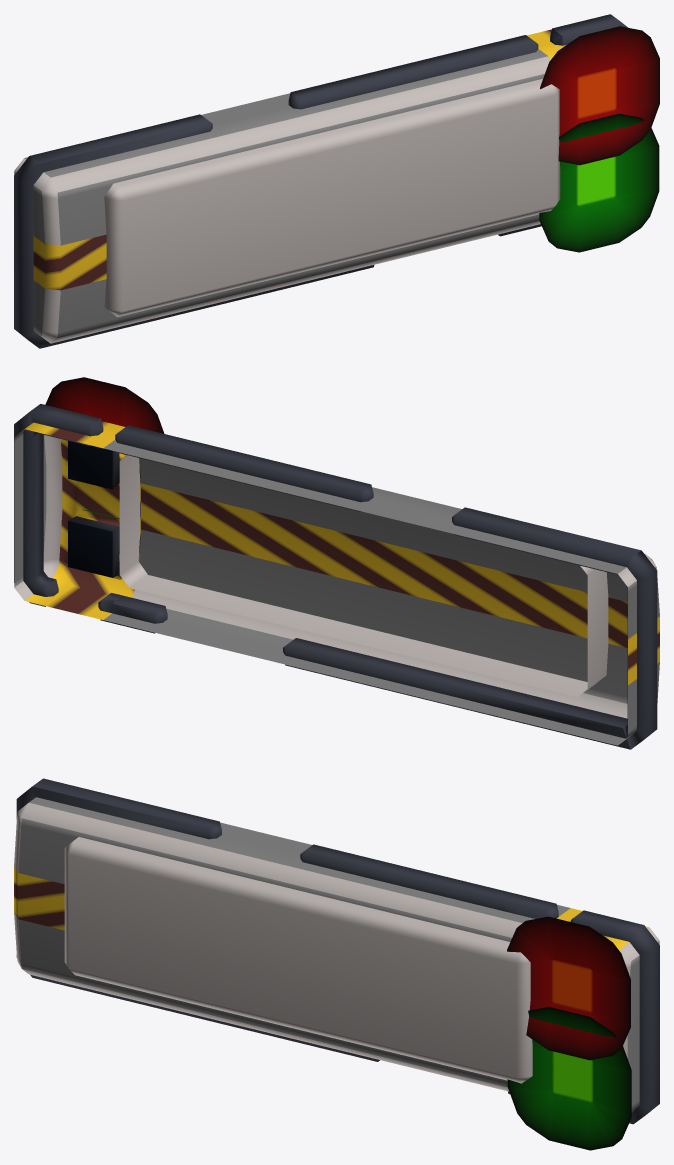
Rendered from Button_01.FBX.
3 views of the same model, one above another, from view 1: azimuth 30°, elevation 25°; view 2: azimuth 150°, elevation 25°; view 3: azimuth 330°, elevation 25° (orthographic). The views are drawn at different scales.
Visible parts, largest first — view 1: Box005, Off, On; view 2: Box005, Off; view 3: Box005, Off, On.
Boxes of the visible parts, x1,y1,x2,y2 form: Box005: (14,14,627,348); Off: (540,26,659,165); On: (539,113,659,252); Box005: (14,404,659,749); Off: (45,377,164,433); Box005: (14,778,659,1124); Off: (507,916,630,1060); On: (507,1007,631,1150).
Bounding box in the file's own units: 6.21 × 2.1 × 0.7612.
1 material, 1 textured.
